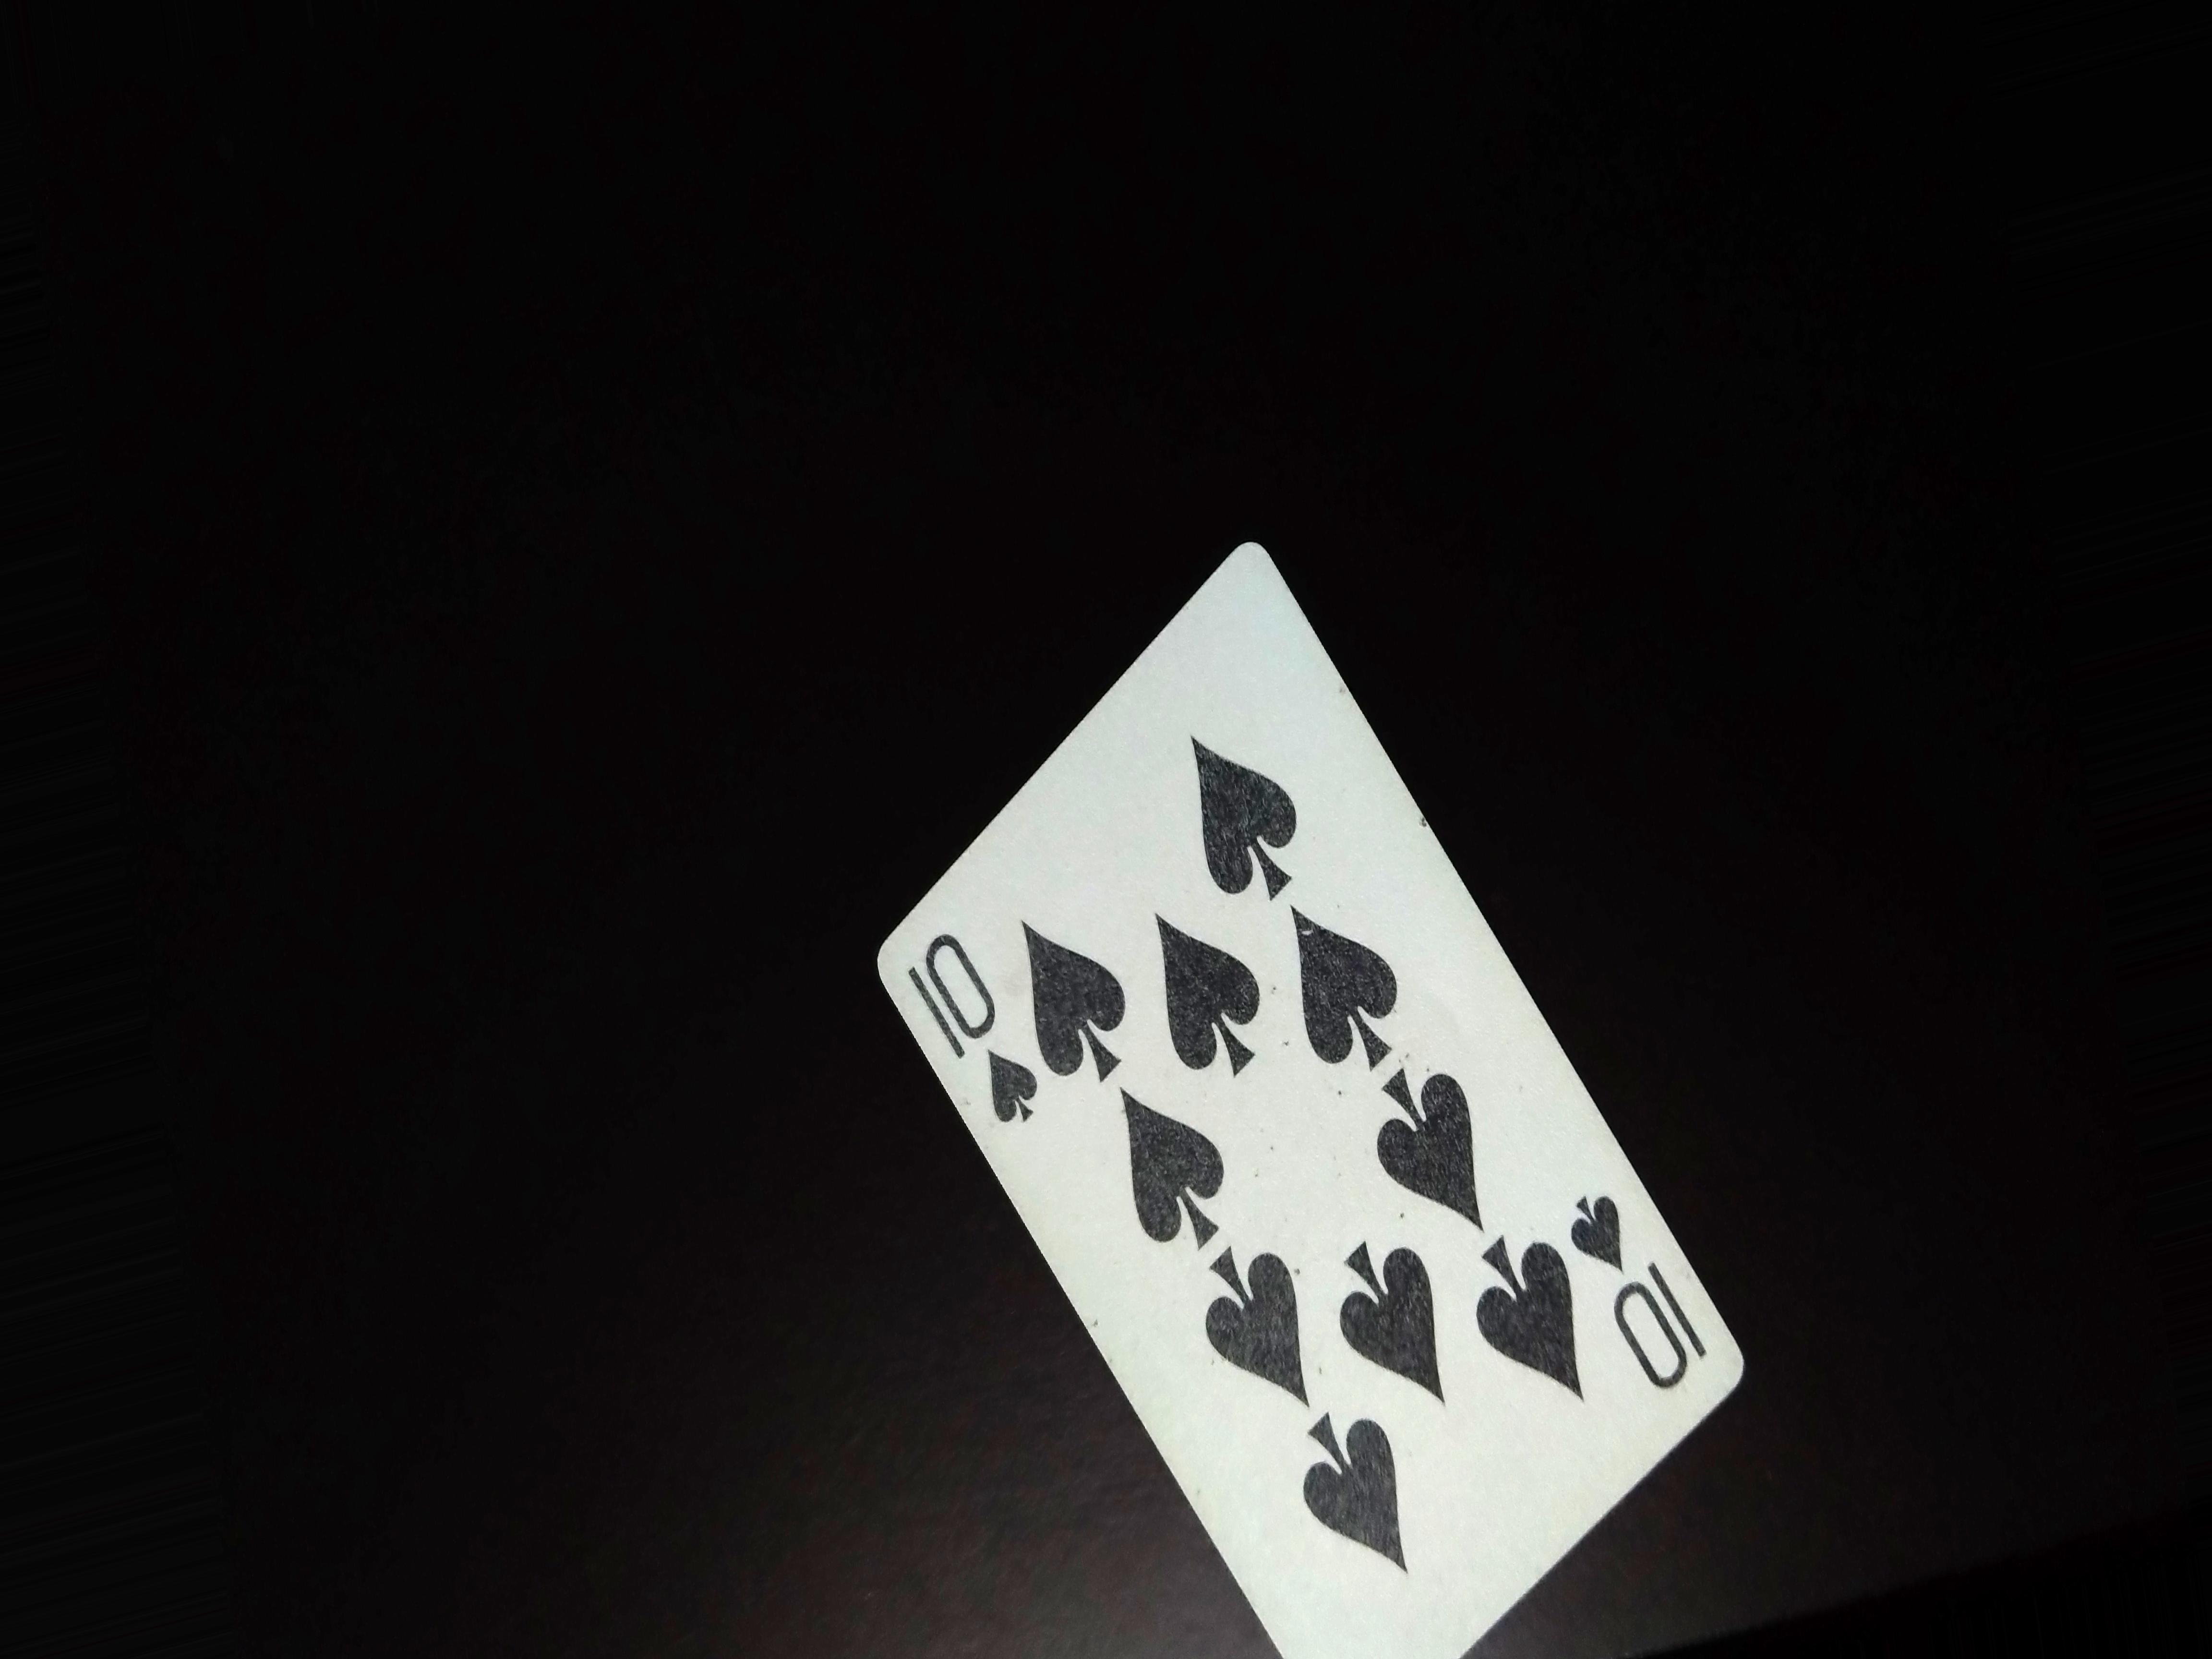10S: (907, 927, 1061, 1164)
